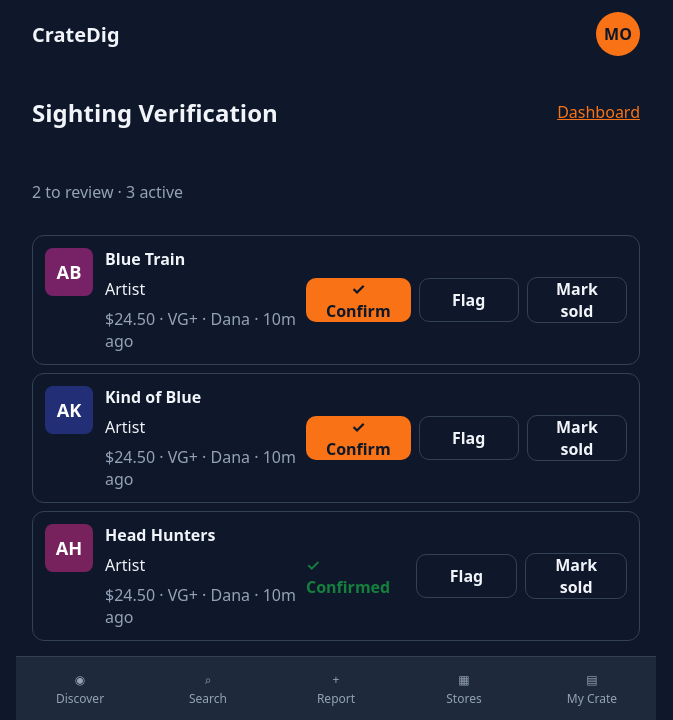
Test case: /merchant/sightings › lists unconfirmed first with price, condition and reporter, and sends after 5 s
The width and height of the screenshot is (673, 720).
expect the list item that starts with "Blue Train" is shown: met, box left=45, top=248, right=298, bottom=352
expect the list named "Sightings to verify" shows "$24.50": met, box left=45, top=248, right=298, bottom=352
Click the button with aria-label "Mark Kind of Blue by Artist sold". click: (577, 438)
box: left=527, top=415, right=627, bottom=461
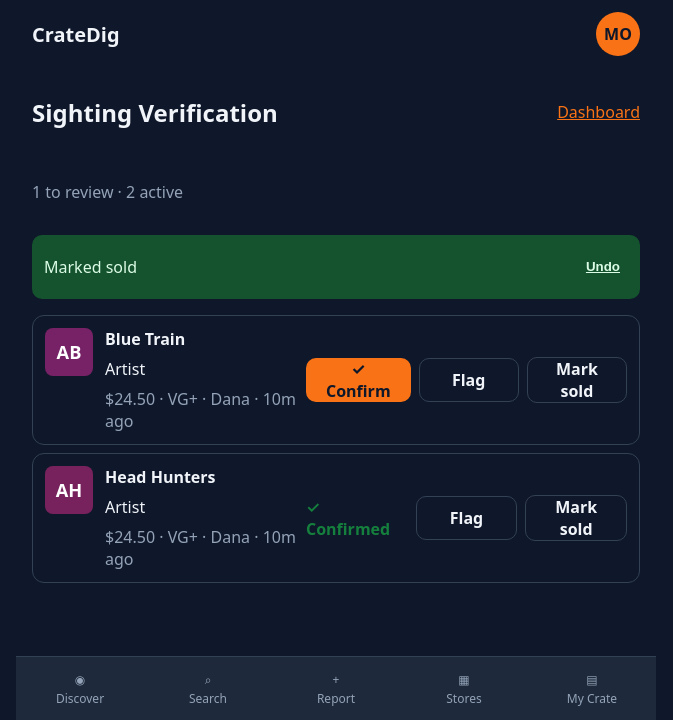
expect the link "Kind of Blue" is gone: met
expect the message shows "Marked sold": met, box left=44, top=256, right=137, bottom=278
Click the button with aria-label "Confirm Blue Train by Artist". click: (358, 380)
box: left=306, top=358, right=411, bottom=402
Wait 5000 ms
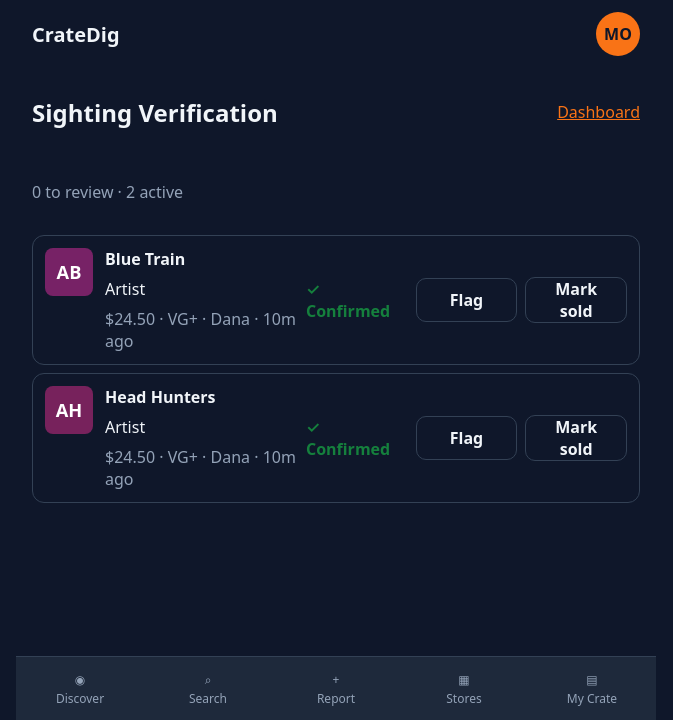
expect the text "✓ Confirmed" is shown 2 times: met, box left=306, top=278, right=390, bottom=322; left=306, top=416, right=390, bottom=460
